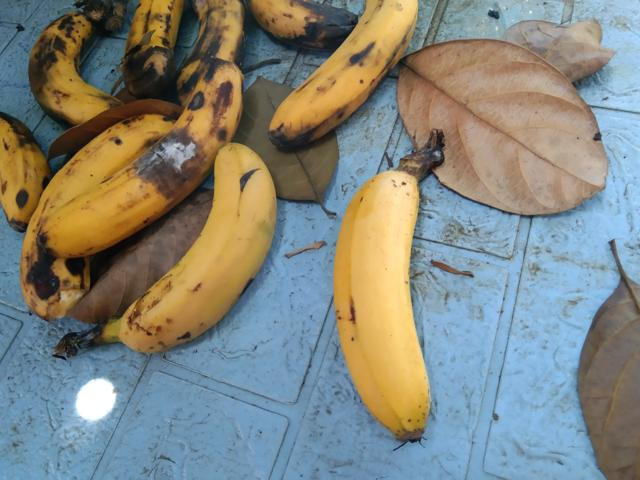freshripe: (322, 152, 479, 441)
ripe: (120, 133, 293, 377), (268, 0, 416, 140)
rotten: (40, 57, 240, 261)
